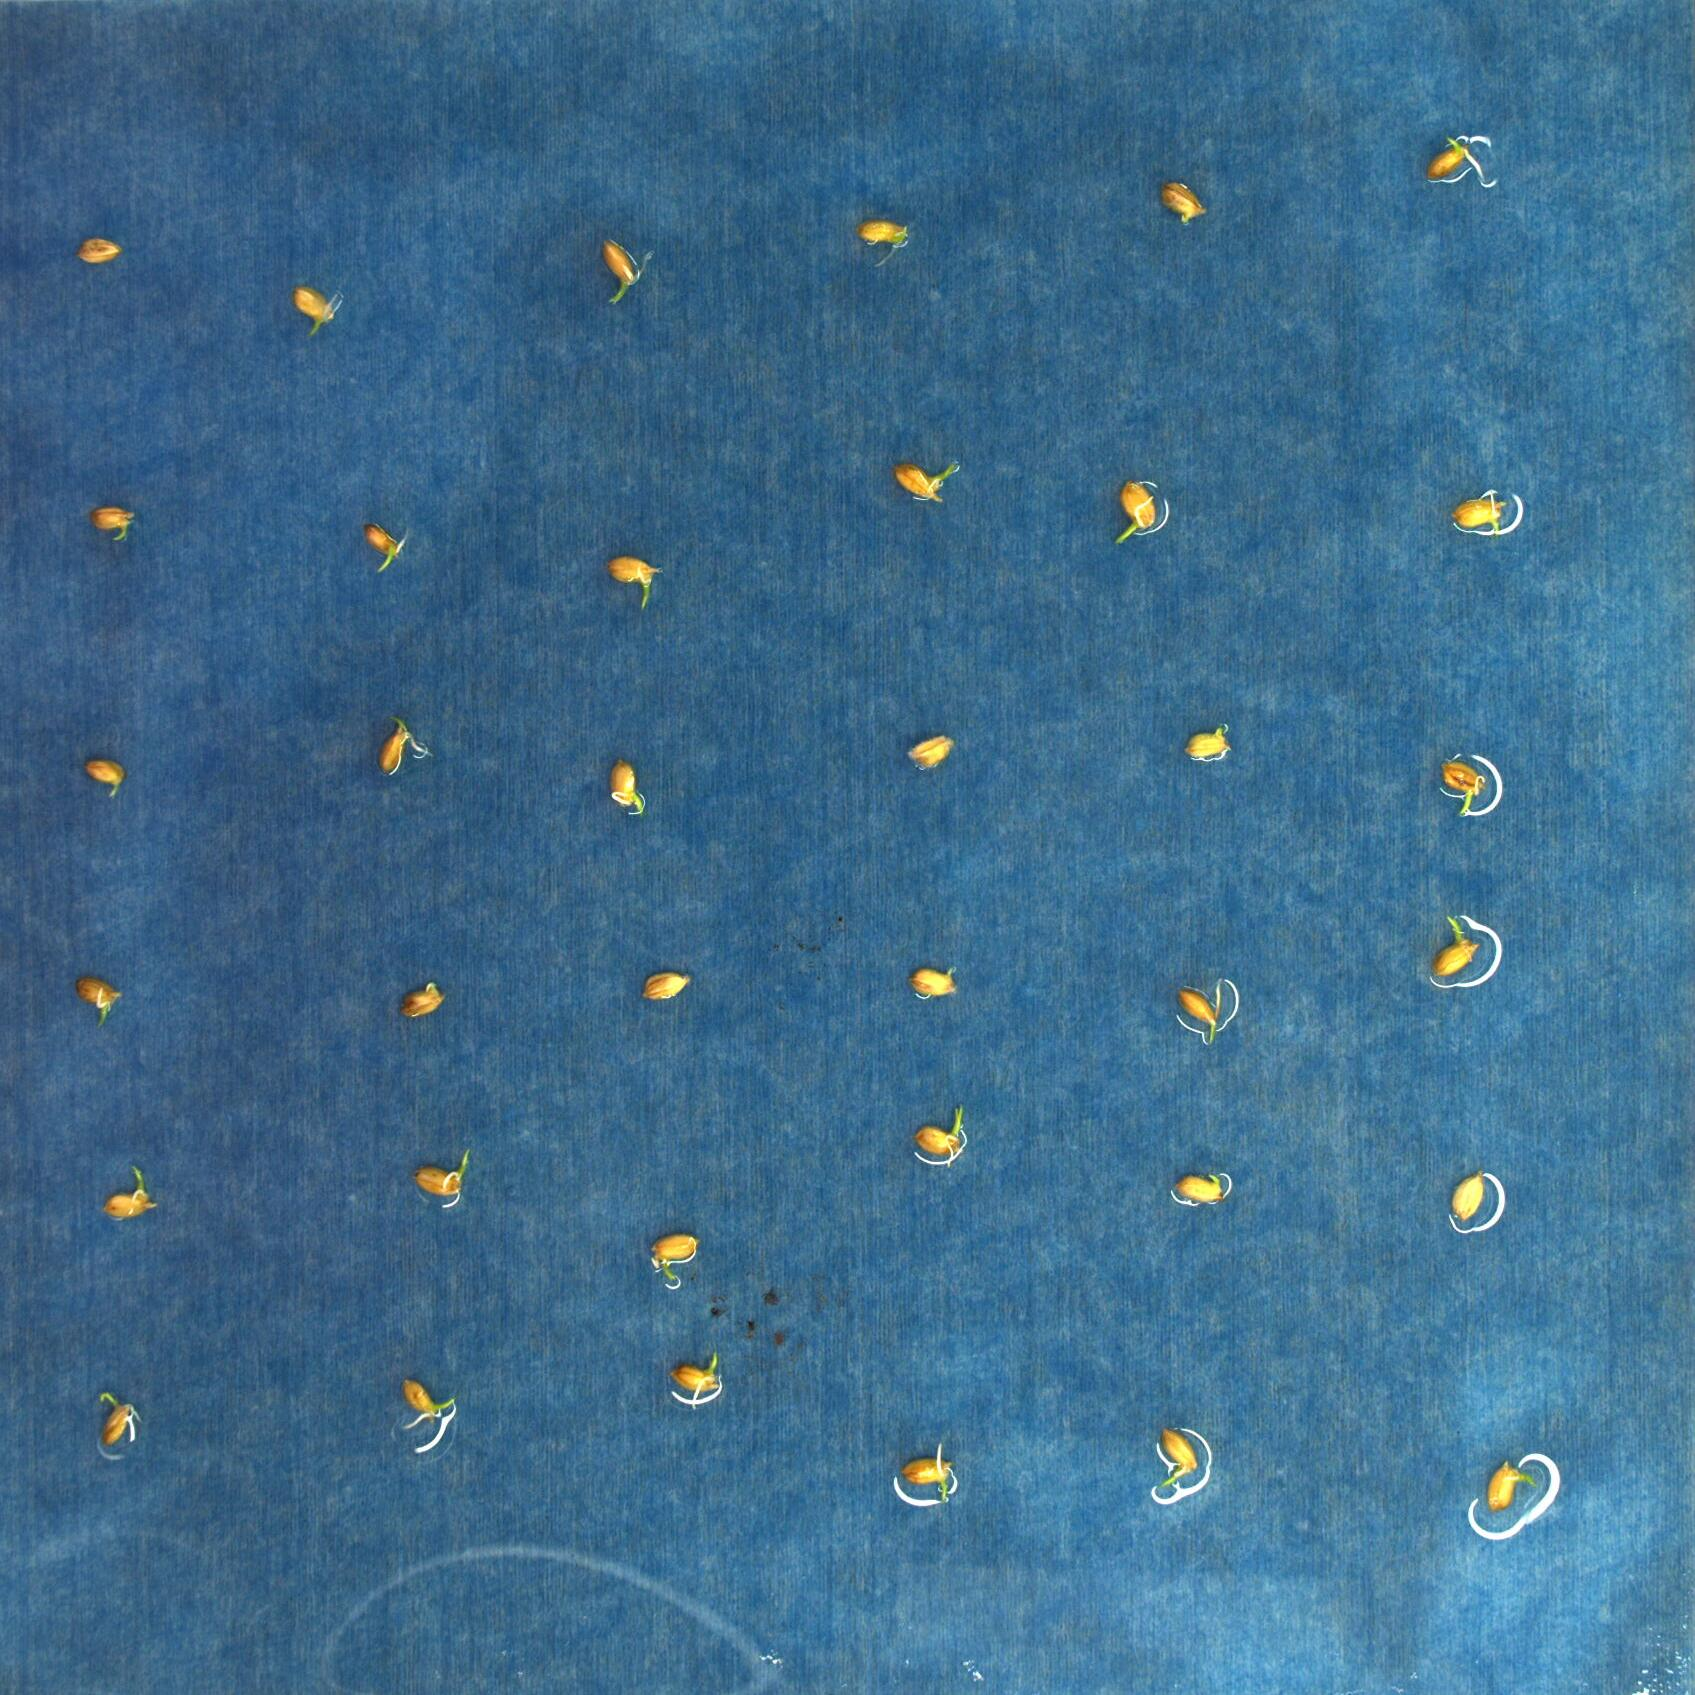not sprout: (292, 286, 341, 335), (1159, 179, 1211, 224), (363, 522, 408, 573), (608, 761, 647, 816), (1450, 1173, 1489, 1225), (855, 217, 916, 248), (377, 720, 411, 775), (1451, 497, 1507, 529), (397, 983, 445, 1020), (908, 733, 951, 773), (1423, 137, 1468, 175), (81, 756, 126, 795), (636, 969, 692, 1000), (1184, 728, 1231, 761), (910, 965, 959, 995), (1175, 1175, 1225, 1205), (92, 504, 137, 532), (78, 236, 123, 262)
sprout: (1177, 979, 1243, 1048), (900, 1440, 955, 1507), (411, 1152, 475, 1203), (1433, 916, 1482, 979), (893, 459, 962, 504), (99, 1163, 155, 1218), (1114, 475, 1159, 543), (1440, 757, 1492, 816), (1155, 1425, 1197, 1496), (1482, 1461, 1537, 1515), (916, 1107, 969, 1163), (400, 1378, 455, 1431), (608, 556, 660, 608), (75, 975, 123, 1028), (99, 1392, 143, 1450), (601, 239, 640, 303), (649, 1232, 700, 1281), (671, 1354, 726, 1395)
